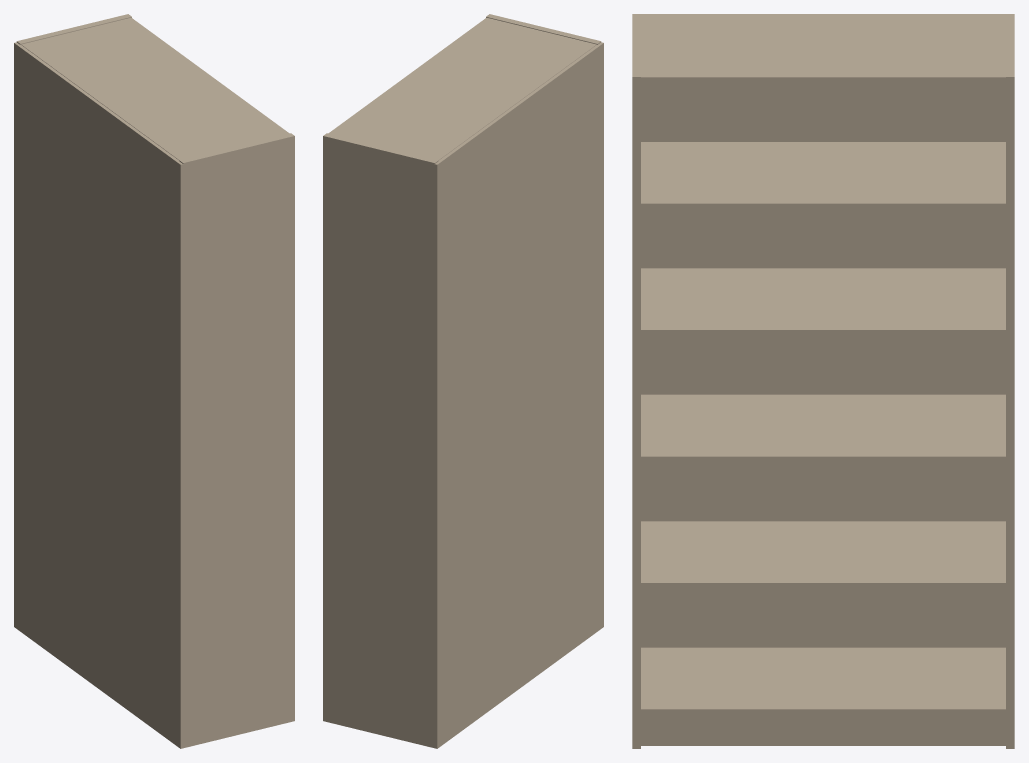
File: 3dcodebench_LargeShelf_seed0.glb
3 renders of one model, left to right at view 1: azimuth 30°, elevation 25°; view 2: azimuth 150°, elevation 25°; view 3: azimuth 270°, elevation 25°, orthographic. The views are drawn at different scales.
Parts seen in each view (by area): view 1: object; view 2: object; view 3: object.
Part boxes in pixels (x1=…): object: x1=14, y1=14, x2=294, y2=748; object: x1=323, y1=14, x2=603, y2=748; object: x1=632, y1=14, x2=1014, y2=748.
Bounding box in the file's own units: 0.3501 × 1.71 × 0.8842.
